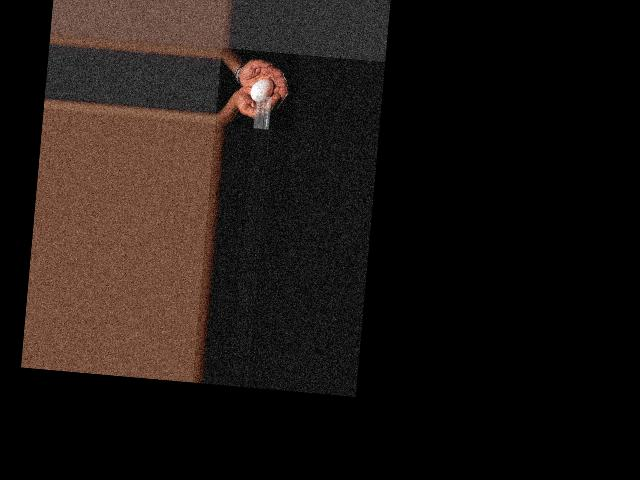egg: (250, 77, 274, 102)
